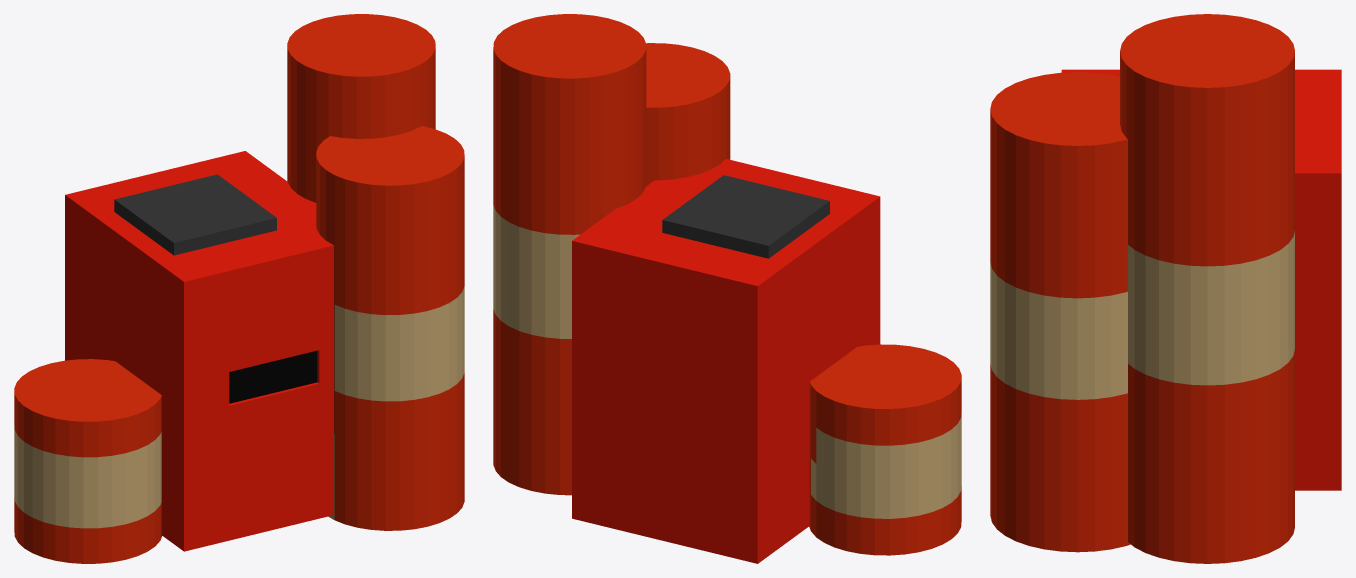
The model's file is Bomb.fbx.
3 views of the same model, side by side, from view 1: azimuth 30°, elevation 25°; view 2: azimuth 150°, elevation 25°; view 3: azimuth 270°, elevation 25° (orthographic). The views are drawn at different scales.
Visible parts, largest first — view 1: Bomb; view 2: Bomb; view 3: Bomb.
Part boxes in pixels (x1=…): Bomb: x1=14, y1=14, x2=464, y2=563; Bomb: x1=493, y1=14, x2=961, y2=563; Bomb: x1=990, y1=14, x2=1341, y2=563.
Size of the model in its own units: 325 by 302 by 201.
